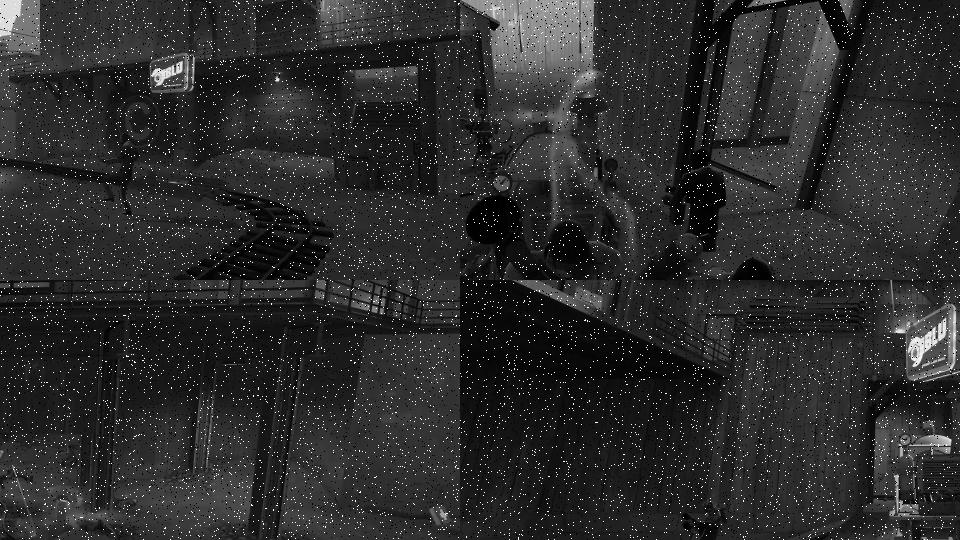Enemy: (582, 230, 960, 280), (464, 193, 642, 280), (662, 146, 728, 252), (96, 131, 142, 217), (681, 500, 728, 540), (82, 493, 140, 510), (56, 439, 79, 474), (2, 466, 35, 483)
